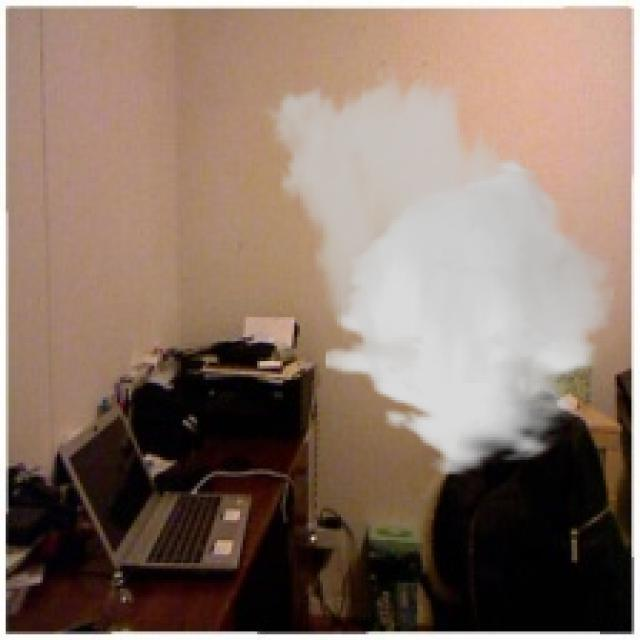Smoke: (257, 62, 614, 478)
